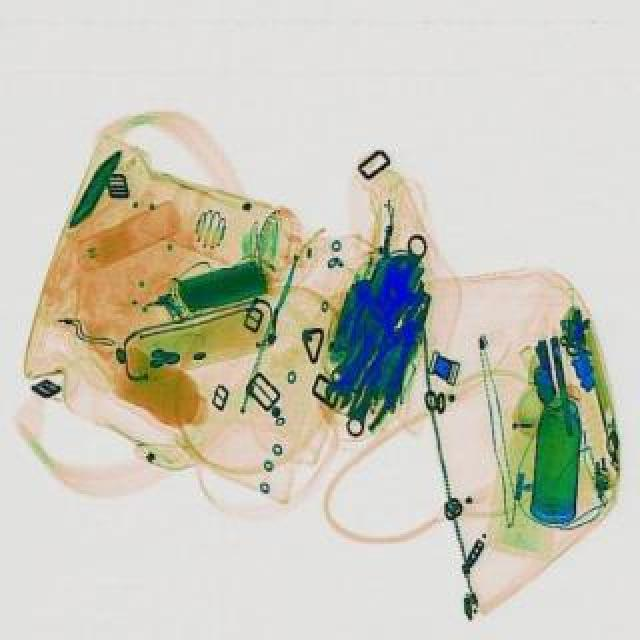scissors: (316, 228, 436, 408)
